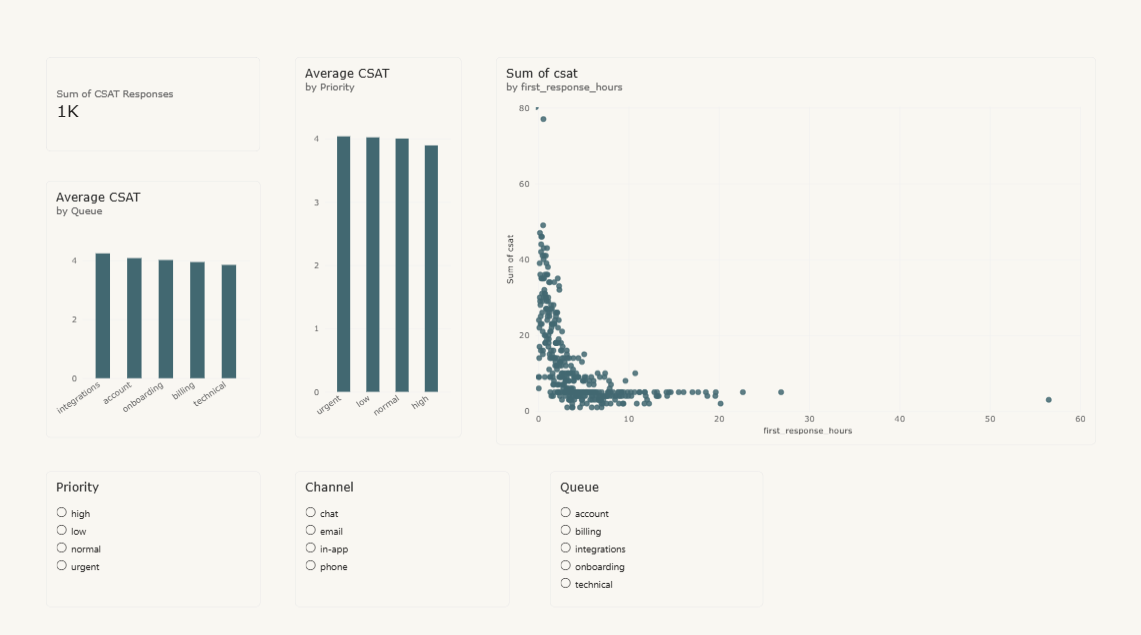

The dashboard page shown, as its layout file describes it:
{"tool":"powerbi","page":{"name":"Customer Experience","canvas":[1920,1080],"ordinal":2},"visuals":[{"type":"clusteredColumnChart","fields":{"Category":["DimQueue.Queue"],"Y":["FactTickets.Average CSAT"]},"box":[85,310,357.5,435],"z":0},{"type":"clusteredColumnChart","fields":{"Category":["DimPriority.Priority"],"Y":["FactTickets.Average CSAT"]},"box":[500,100,277.5,645],"z":1000},{"type":"scatterChart","fields":{"X":["FactTickets.first_response_hours"],"Y":["Sum(FactTickets.csat)"]},"box":[835,100,1000,657.5],"z":2000},{"type":"cardVisual","fields":{"Data":["Sum(FactTickets.CSAT Responses)"]},"box":[85,100,357.5,160],"z":3000},{"type":"listSlicer","fields":{"Values":["DimPriority.Priority"]},"box":[85,802.5,357.5,230],"z":4000},{"type":"listSlicer","fields":{"Values":["DimChannel.Channel"]},"box":[500,802.5,357.5,230],"z":5000},{"type":"listSlicer","fields":{"Values":["DimQueue.Queue"]},"box":[925,802.5,355,230],"z":6000}]}

Visuals, with their boxes in screenshot pixels (x1, y1, x2, y2), scaled from the page's 1920x1080 canvas onto the 1141x635 screenshot:
clusteredColumnChart - DimQueue.Queue x FactTickets.Average CSAT: select_region(51, 182, 263, 438)
clusteredColumnChart - DimPriority.Priority x FactTickets.Average CSAT: select_region(297, 59, 462, 438)
scatterChart - FactTickets.first_response_hours x Sum(FactTickets.csat): select_region(496, 59, 1090, 445)
cardVisual - Sum(FactTickets.CSAT Responses): select_region(51, 59, 263, 153)
listSlicer - DimPriority.Priority: select_region(51, 472, 263, 607)
listSlicer - DimChannel.Channel: select_region(297, 472, 510, 607)
listSlicer - DimQueue.Queue: select_region(550, 472, 761, 607)
